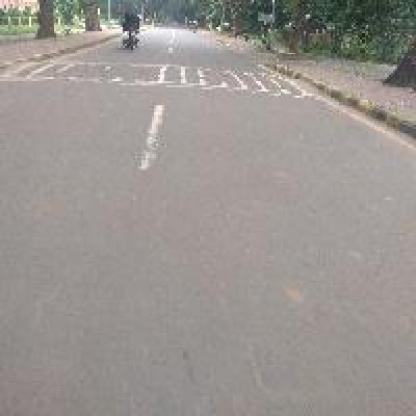Speed Bump: (0, 54, 318, 100)
